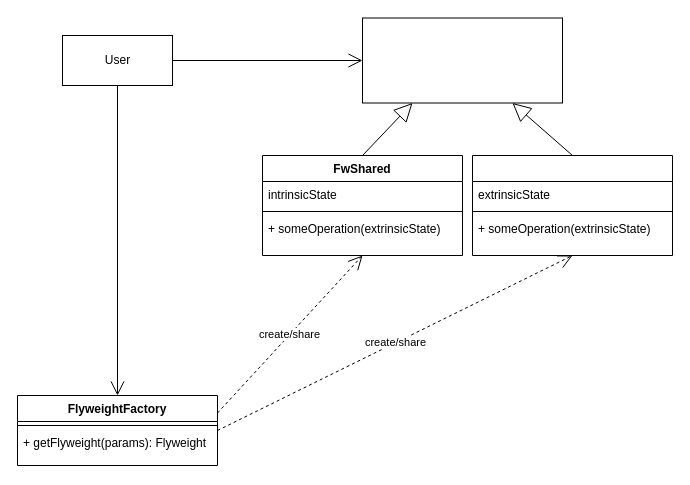
The diagram is 690 pixels wide and 485 high, and some of its shapes have lost their labels. Here are the shapes that lost their labels. From the top down, the box of each, then its label:
(362, 17, 562, 103): <<Interface>> Flyweight + someOperation(extrinsicState)
(472, 154, 672, 256): FwUnshared
